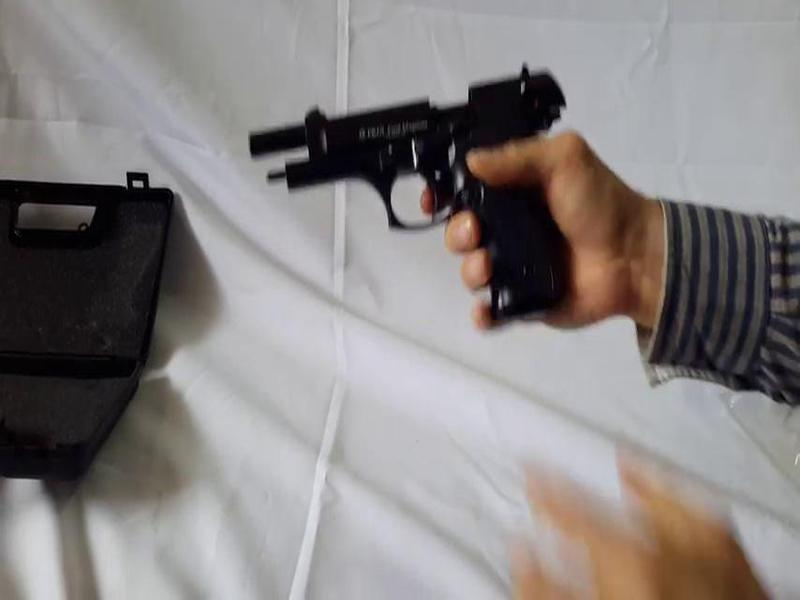Pistola: (237, 50, 603, 344)
